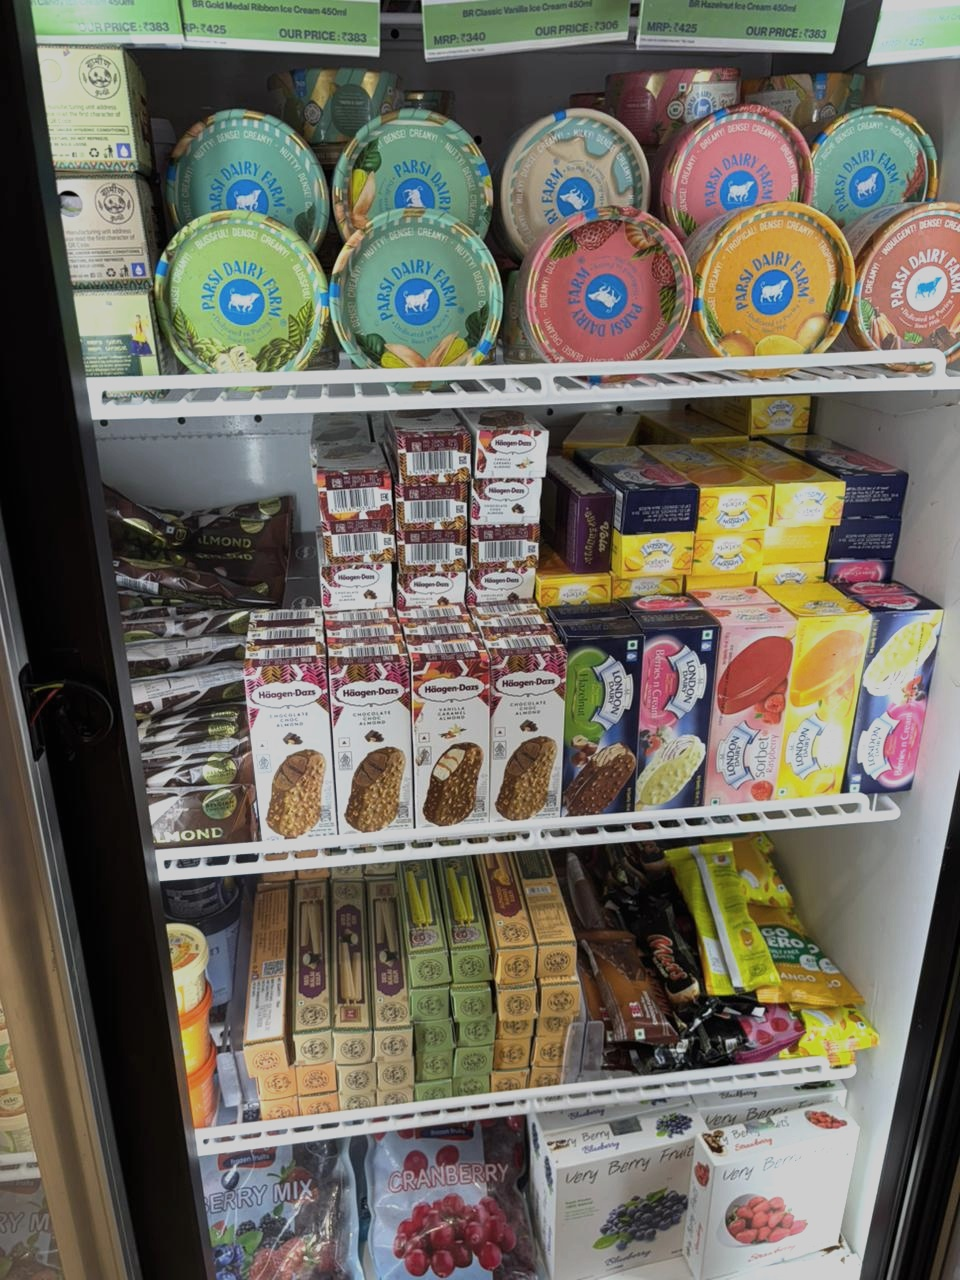Haagen-Dazs IceCream Bars: (317, 643, 423, 840), (239, 652, 346, 841), (406, 638, 491, 829), (483, 641, 568, 830), (462, 412, 554, 478), (385, 418, 475, 479), (309, 464, 394, 526), (396, 520, 474, 581), (312, 525, 406, 574), (395, 479, 473, 534), (467, 521, 546, 574), (314, 563, 396, 613), (395, 559, 469, 614), (472, 481, 547, 528), (464, 564, 545, 603)
